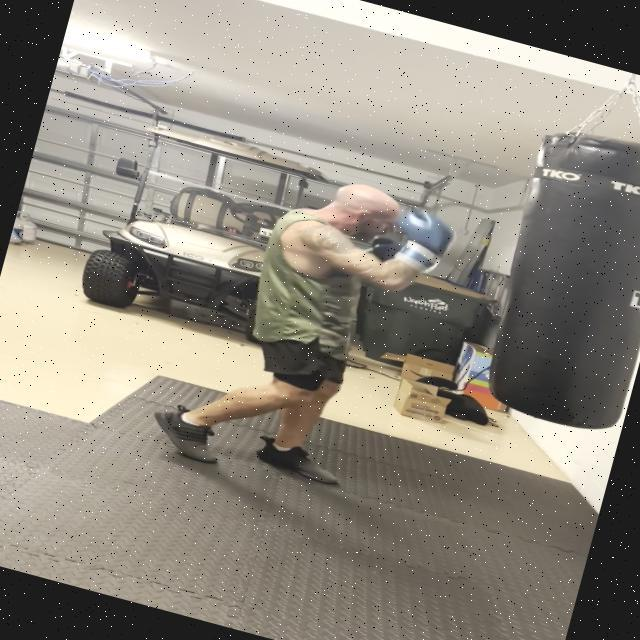bag: (461, 106, 640, 450), (461, 114, 640, 444)
uppercut: (240, 151, 476, 319)
